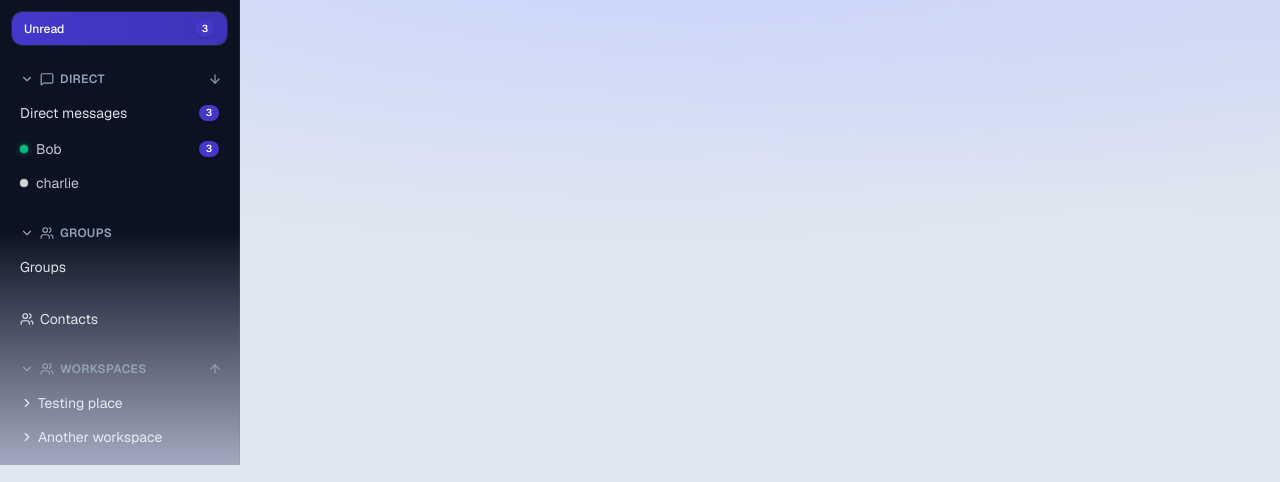
Sidebar — section order › moving sections does not collapse Direct
Expected: the text "Direct messages" is shown, [20,103,127,123]
Click the button with test id "sidebar-direct-move" at x=215, y=79, box [203,67,227,91]
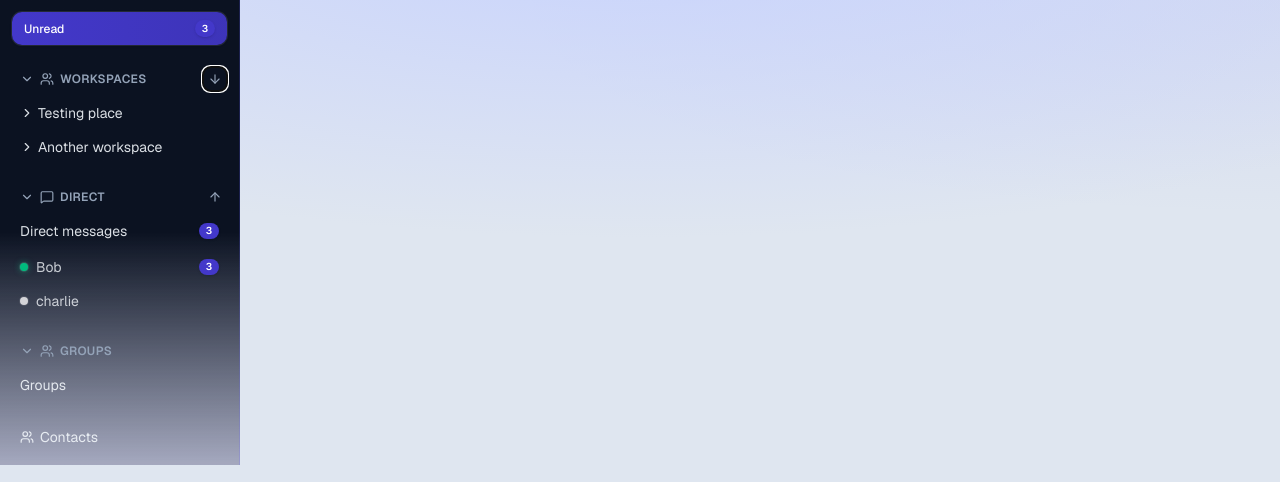
Expected: the text "Direct messages" is shown, [20,221,127,241]
Click the button with test id "sidebar-workspaces-move" at x=215, y=79, box [203,67,227,91]
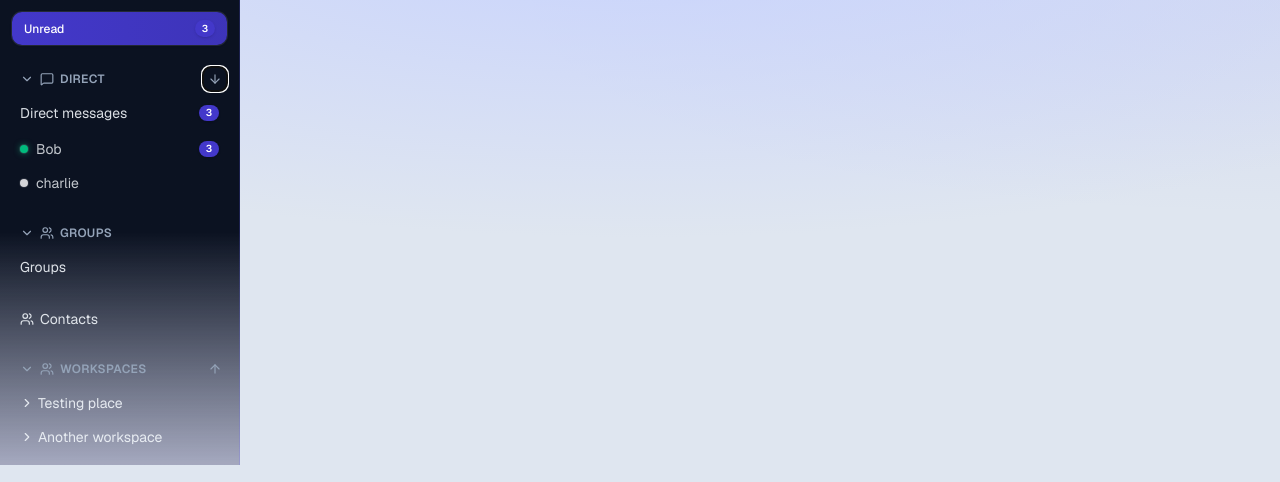
Expected: the text "Direct messages" is shown, [20,103,127,123]
